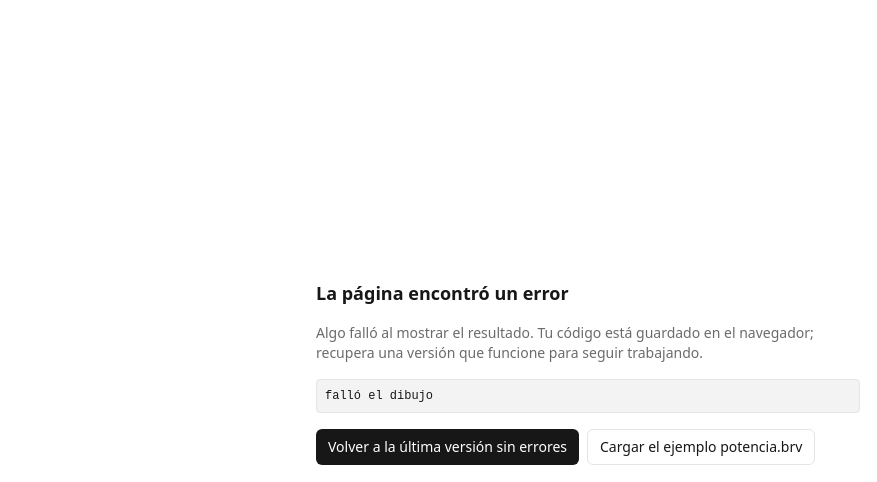
Test case: ErrorBoundary › cargar el ejemplo también recupera la página
Click the button "Cargar el ejemplo potencia.brv".
click(701, 447)  # box [587,429,815,465]
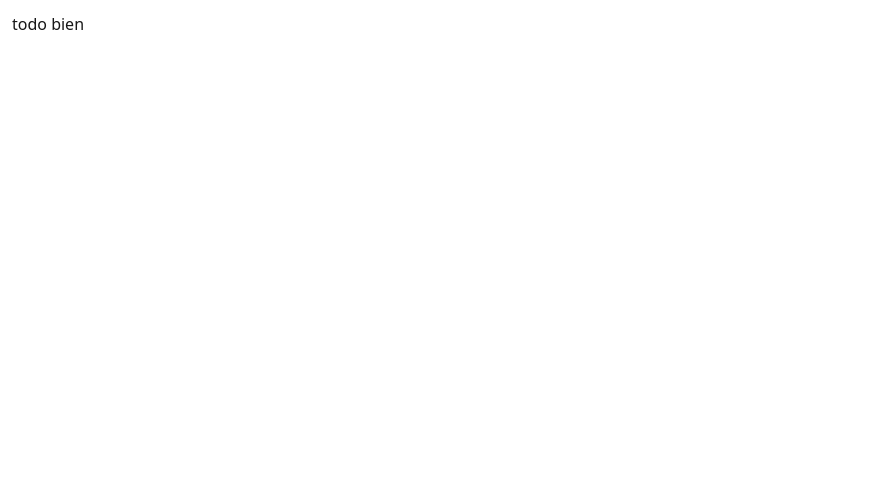
Result: the text "todo bien" is shown at [12,13,84,35]
